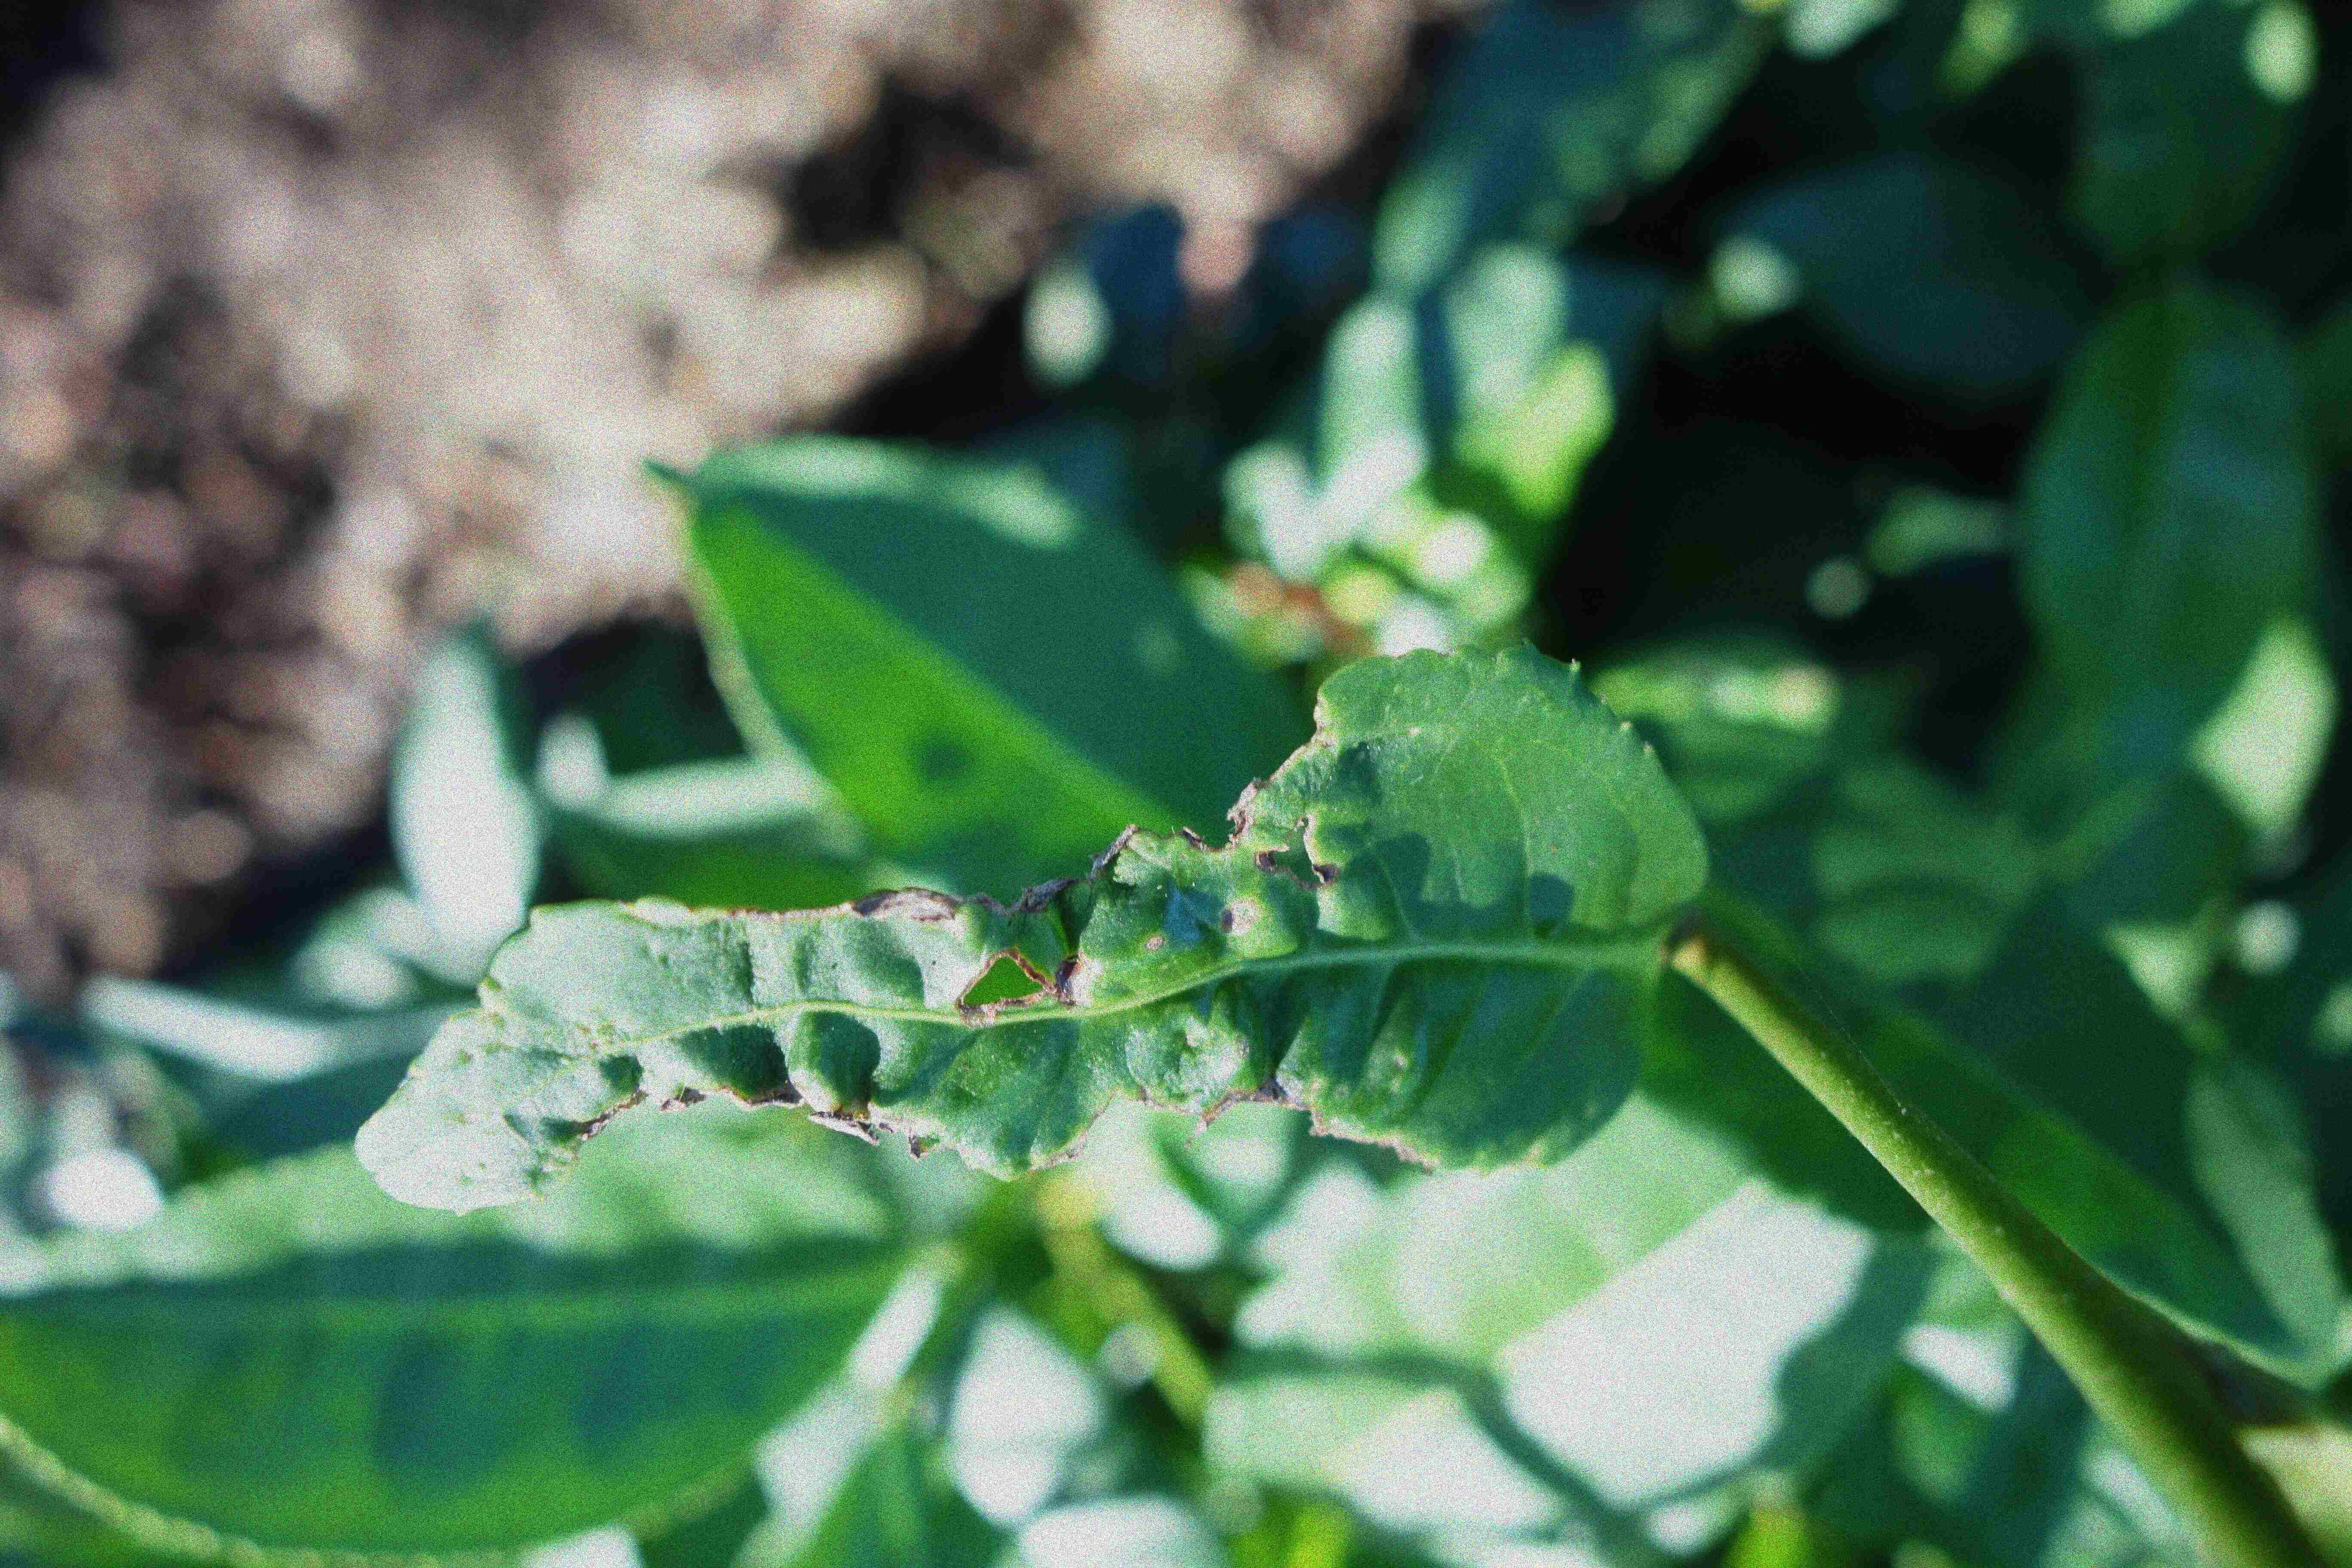chihuo_high: (352, 642, 1710, 1218)
